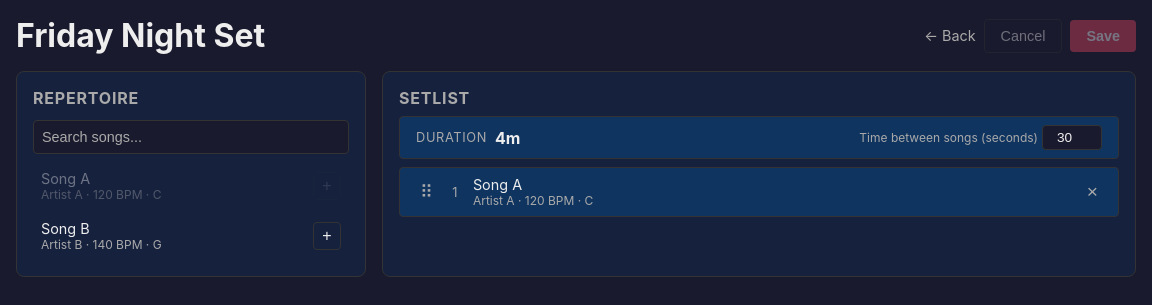
Editor save/cancel › resets changes on cancel
The width and height of the screenshot is (1152, 305).
Expected: the heading "Friday Night Set" is shown, [16,16,265,55]
Note: Add Song B to make dirty
Click the button named "add song b".
click(327, 236)  # box [313,222,341,250]
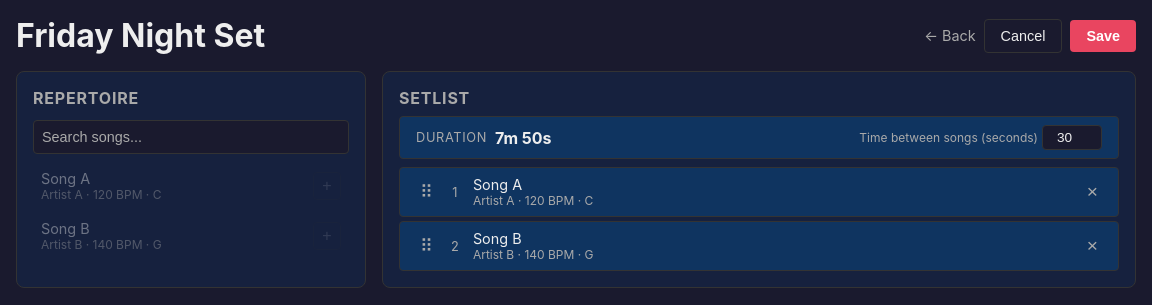
Expected: the button "Cancel" is enabled
Click the button "Cancel".
click(1023, 36)  # box [984,18,1062,52]
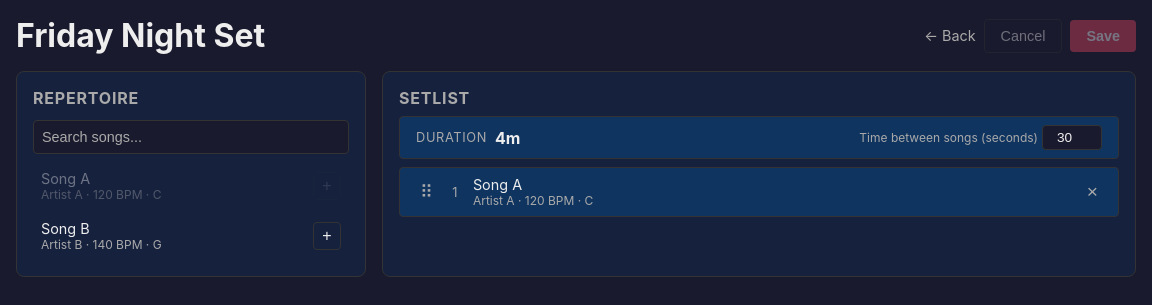
Expected: the button "Save" is disabled, [1070,20,1136,52]
Expected: the button "Cancel" is disabled, [984,18,1062,52]
